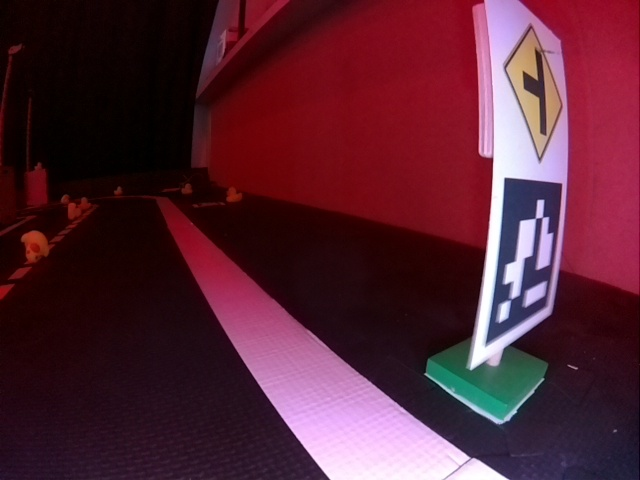Duckie: (20, 230, 49, 259), (226, 187, 242, 201), (68, 202, 80, 220), (78, 197, 89, 209), (181, 184, 193, 194), (114, 187, 122, 195), (61, 195, 69, 203)
Intersection sign: (500, 18, 565, 167)
QR code: (486, 179, 564, 348)
